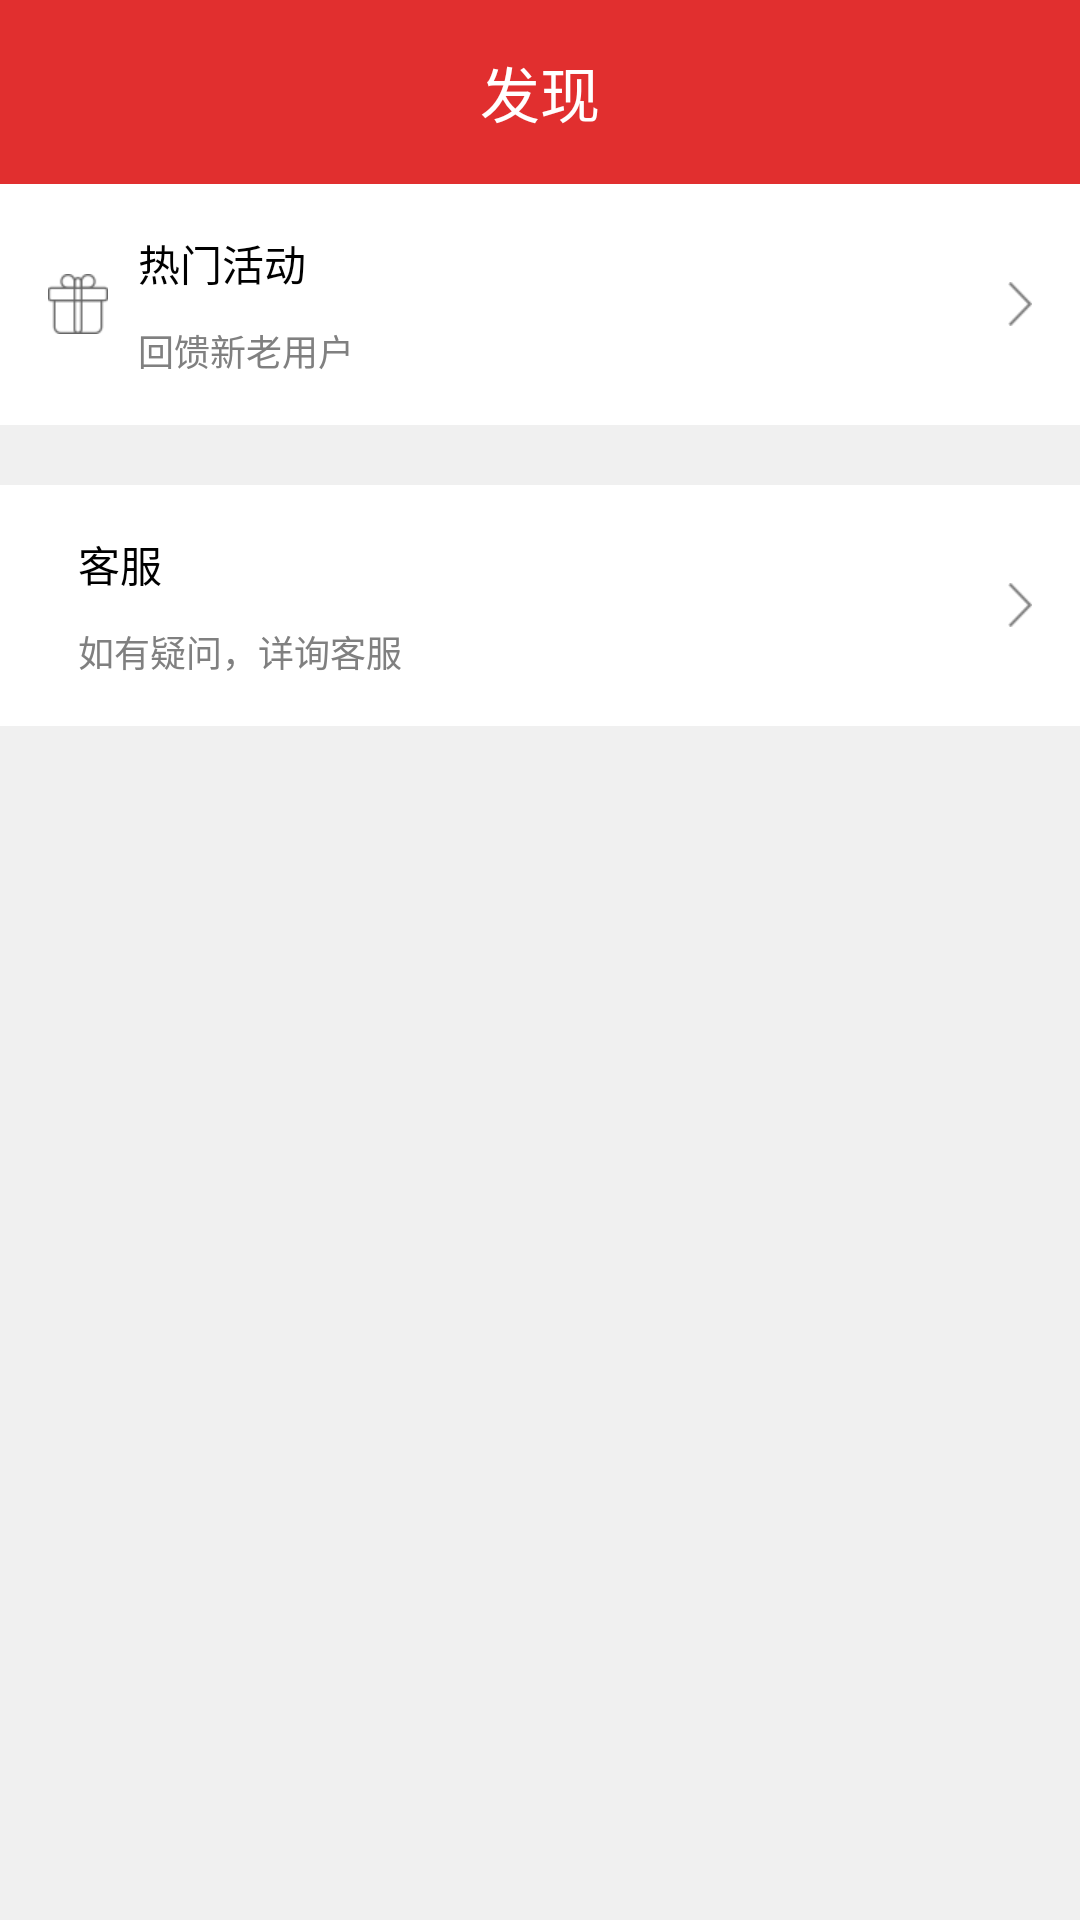

Icons on this 1080×1920 Android screen, each with the point to tap as point (x, y):
gift: point (78, 304)
goto: point (1020, 304), point (1020, 605)
